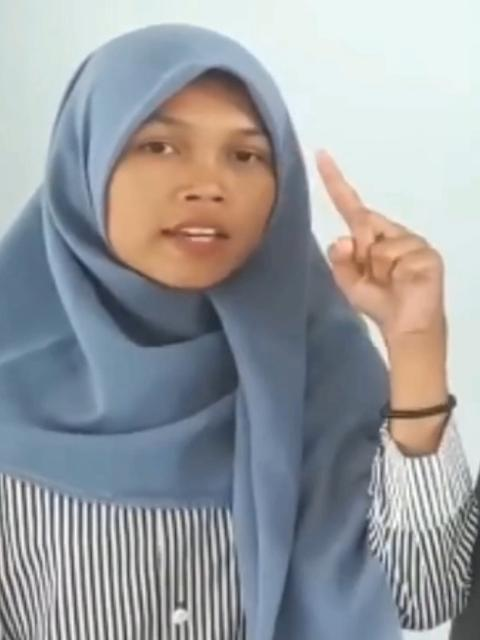D: (310, 146, 448, 342)
